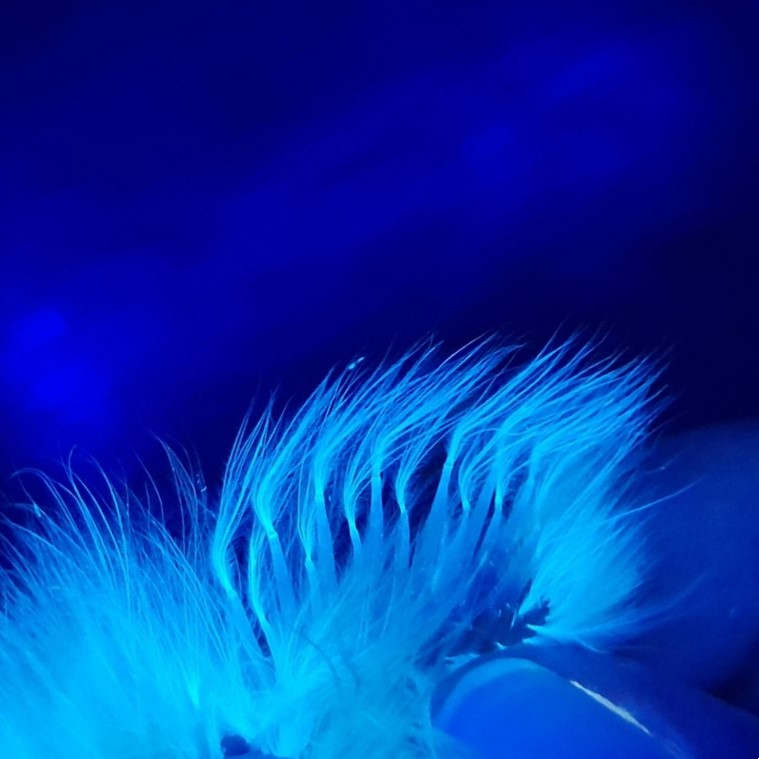female: (225, 431, 570, 680)
